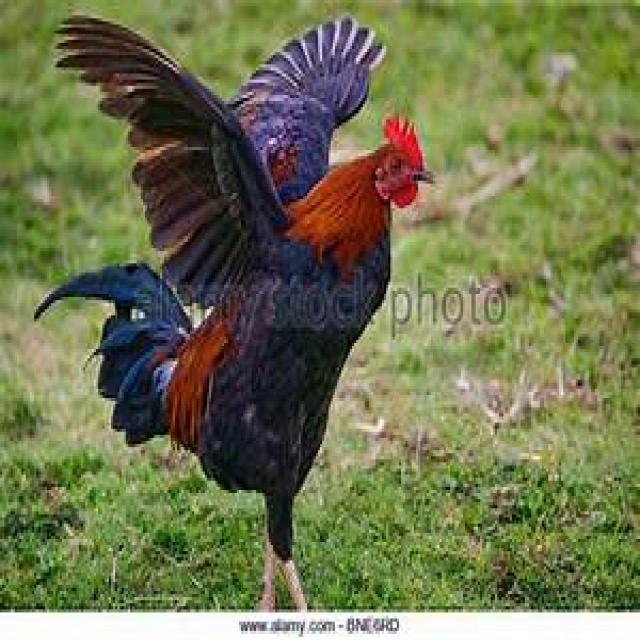hen: (32, 15, 435, 612)
